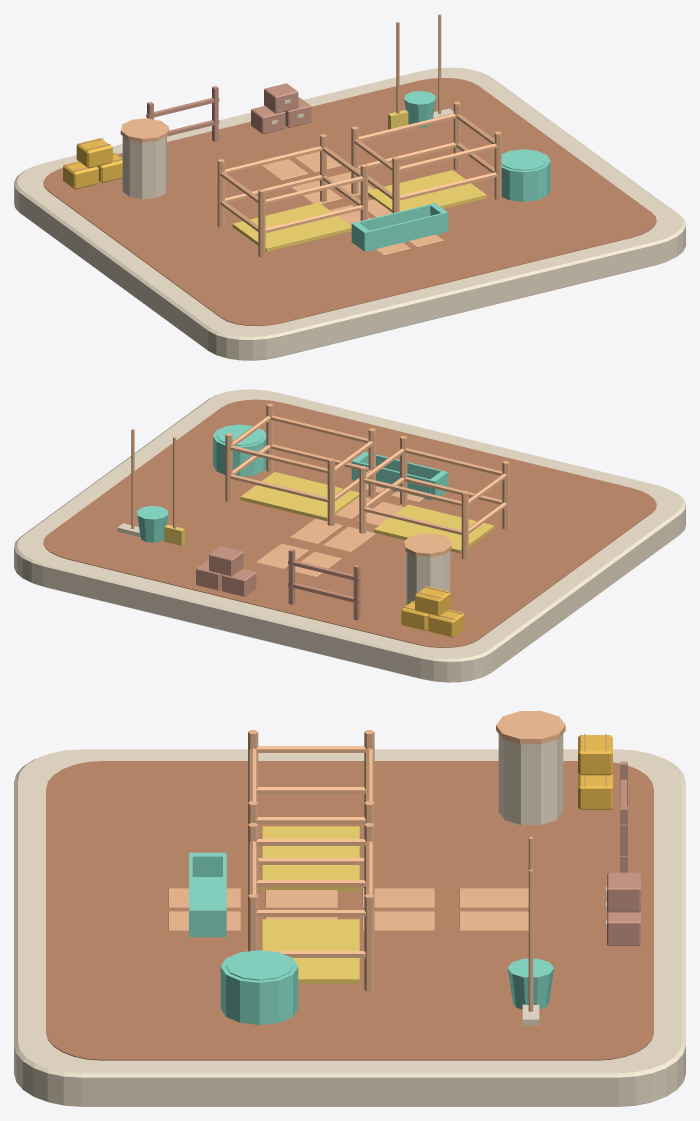
The picture shows the model from 3 angles, top to bottom: view 1: azimuth 30°, elevation 25°; view 2: azimuth 150°, elevation 25°; view 3: azimuth 270°, elevation 25°; orthographic projection. The views are drawn at different scales.
Parts seen in each view (by area): view 1: COM-02 Floor Surface, COM-01 Rounded Base Direct, Bedding zone, Feed bin, Bedding zone.001, Water tub, Bin end, Lid, Bucket, Hay bale.002, Stacked case.002, Bin end.001 (+12 smaller); view 2: COM-02 Floor Surface, COM-01 Rounded Base Direct, Bedding zone.001, Bedding zone, Feed bin, Water tub, Bucket, Lid, Hay bale.002, Stacked case.002, Hay bale, Stacked case (+21 smaller); view 3: COM-02 Floor Surface, COM-01 Rounded Base Direct, Feed bin, Bedding zone.001, Bedding zone, Water tub, Lid, Bucket, Water surface, Hay bale.002, Path stone.006, Path stone.007 (+21 smaller).
Part boxes in pixels (x1=…): COM-02 Floor Surface: x1=43, y1=78, x2=656, y2=326; COM-01 Rounded Base Direct: x1=14, y1=67, x2=685, y2=360; Bedding zone: x1=232, y1=202, x2=351, y2=251; Feed bin: x1=122, y1=136, x2=166, y2=199; Bedding zone.001: x1=368, y1=170, x2=486, y2=211; Water tub: x1=501, y1=149, x2=550, y2=201; Bin end: x1=369, y1=213, x2=443, y2=250; Lid: x1=120, y1=118, x2=168, y2=142; Bucket: x1=404, y1=91, x2=435, y2=127; Hay bale.002: x1=76, y1=138, x2=112, y2=168; Stacked case.002: x1=264, y1=83, x2=298, y2=113; Bin end.001: x1=356, y1=204, x2=431, y2=230; COM-02 Floor Surface: x1=43, y1=399, x2=656, y2=647; COM-01 Rounded Base Direct: x1=14, y1=389, x2=685, y2=682; Bedding zone.001: x1=240, y1=472, x2=359, y2=520; Bedding zone: x1=374, y1=504, x2=494, y2=553; Feed bin: x1=405, y1=551, x2=450, y2=605; Water tub: x1=213, y1=424, x2=266, y2=476; Bucket: x1=136, y1=506, x2=168, y2=542; Lid: x1=404, y1=533, x2=451, y2=557; Hay bale.002: x1=415, y1=586, x2=450, y2=616; Stacked case.002: x1=209, y1=546, x2=243, y2=576; Hay bale: x1=428, y1=609, x2=464, y2=637; Stacked case: x1=222, y1=568, x2=256, y2=596; COM-02 Floor Surface: x1=46, y1=761, x2=653, y2=1060; COM-01 Rounded Base Direct: x1=14, y1=749, x2=685, y2=1106; Feed bin: x1=498, y1=734, x2=563, y2=824; Bedding zone.001: x1=262, y1=919, x2=359, y2=983; Bedding zone: x1=262, y1=826, x2=359, y2=891; Water tub: x1=220, y1=950, x2=298, y2=1024; Lid: x1=496, y1=711, x2=565, y2=744; Bucket: x1=507, y1=958, x2=553, y2=1009; Water surface: x1=226, y1=951, x2=292, y2=980; Hay bale.002: x1=578, y1=735, x2=612, y2=775; Path stone.006: x1=459, y1=888, x2=528, y2=907; Path stone.007: x1=459, y1=911, x2=528, y2=930.
Bounding box in the file's own units: 6 × 1.58 × 5.2.
Materials: 1 (1 with a texture image).
